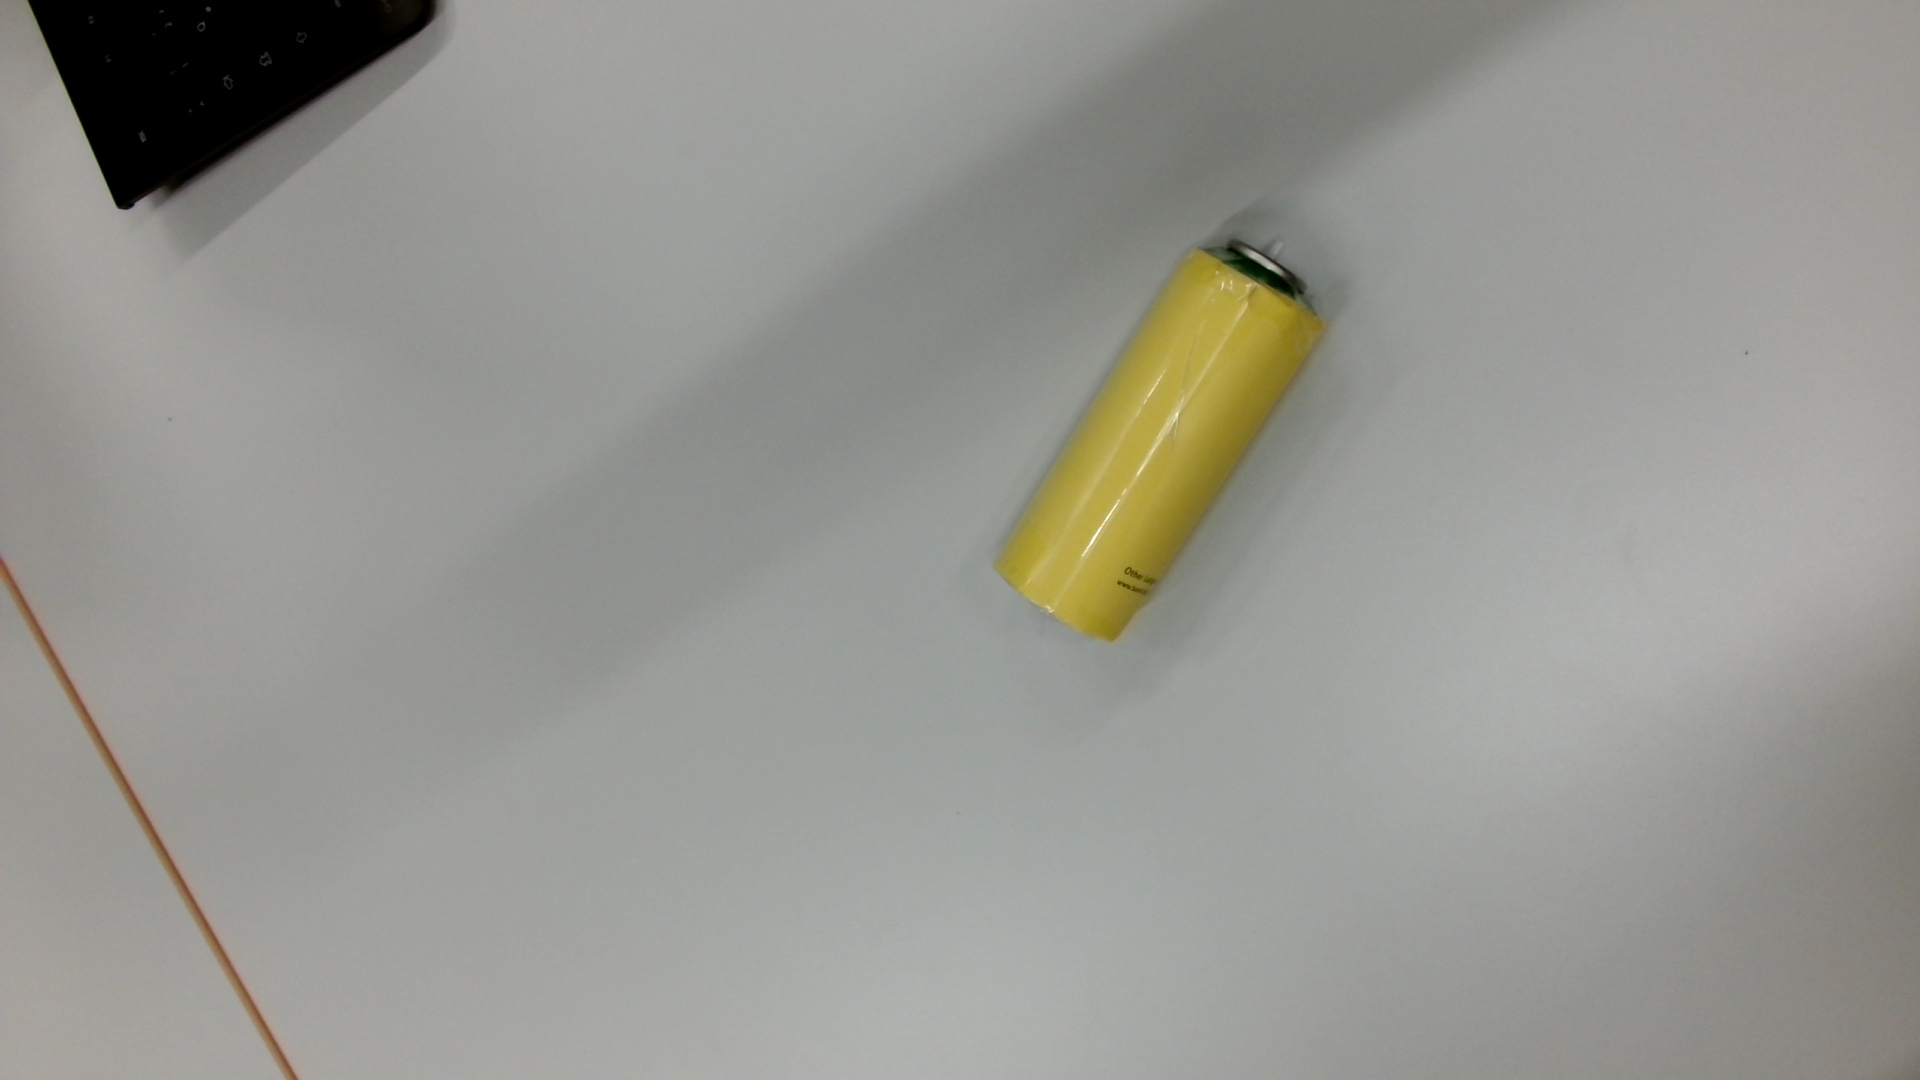Cylinder: (986, 228, 1342, 665)
